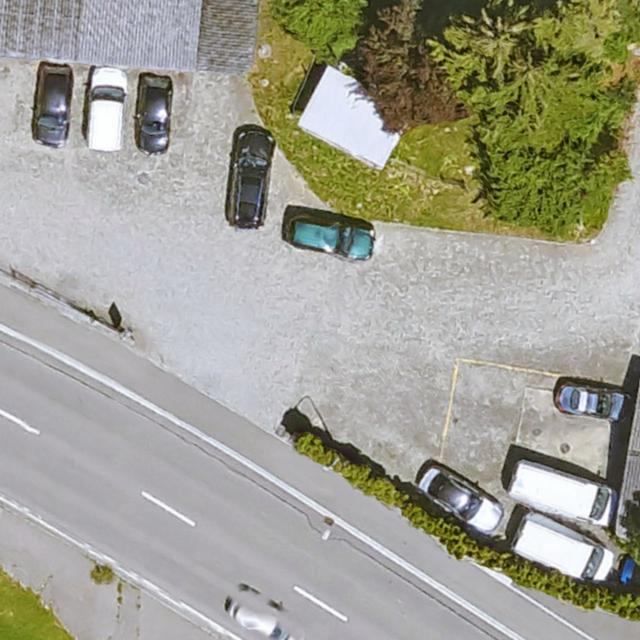tree: (482, 111, 625, 218), (358, 4, 456, 128), (482, 46, 610, 122), (429, 1, 526, 91), (269, 0, 371, 61)
